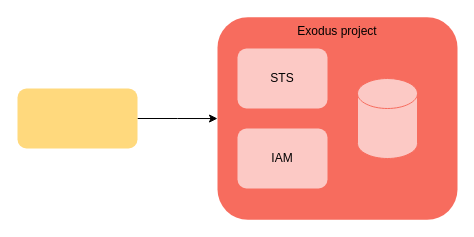
The diagram is 474 pixels wide and 237 high, and some of its shapes have lost their labels. Here are the shapes that lost their labels. From the top down, the centre of each, then its label:
the point at 77,118: Your App
the point at 387,118: DB
